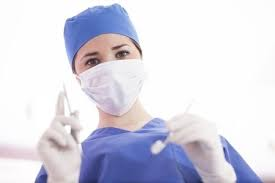mask: (71, 31, 144, 114)
